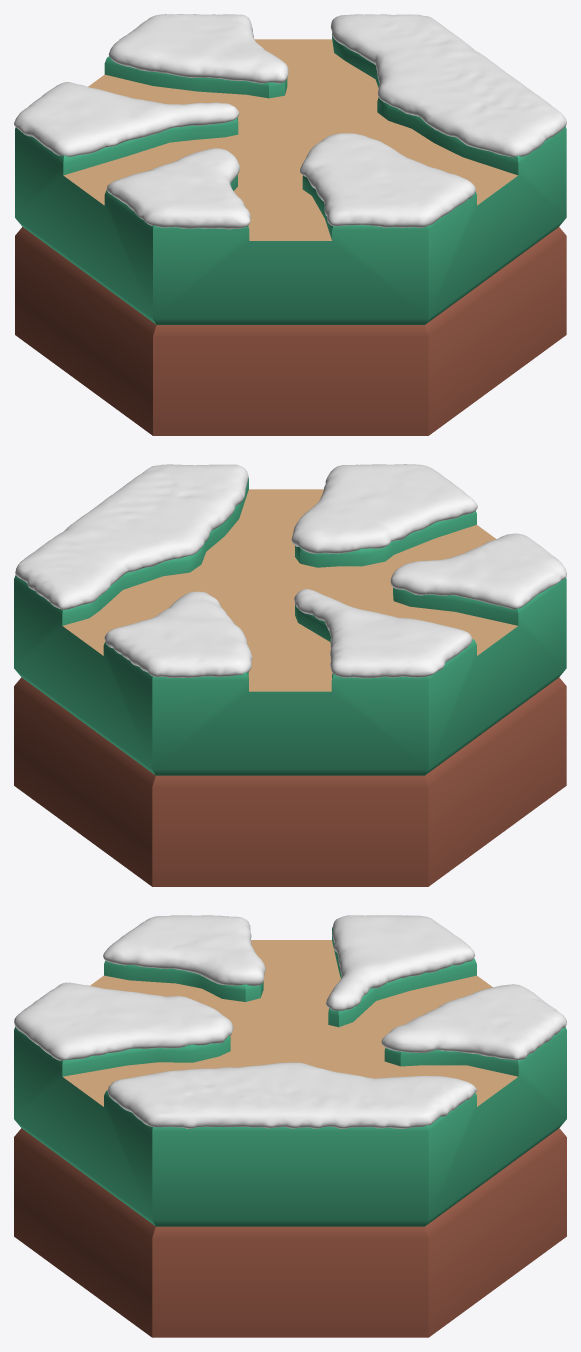
The model's file is snow_hex_forest_roadL_detail.fbx.
The picture shows the model from 3 angles, top to bottom: view 1: azimuth 30°, elevation 25°; view 2: azimuth 150°, elevation 25°; view 3: azimuth 270°, elevation 25°; orthographic projection.
Visible parts, largest first — view 1: hex_forest_roadL_detail.001, hex_forest_roadL_detail.002, SnowBall.001, hex_forest_roadL_detail; view 2: hex_forest_roadL_detail.001, hex_forest_roadL_detail.002, SnowBall.001, hex_forest_roadL_detail; view 3: hex_forest_roadL_detail.001, hex_forest_roadL_detail.002, SnowBall.001, hex_forest_roadL_detail.
Part boxes in pixels (x1=…): hex_forest_roadL_detail.001: x1=15, y1=227, x2=566, y2=435; hex_forest_roadL_detail.002: x1=15, y1=33, x2=566, y2=324; SnowBall.001: x1=14, y1=14, x2=566, y2=229; hex_forest_roadL_detail: x1=63, y1=39, x2=517, y2=240; hex_forest_roadL_detail.001: x1=14, y1=677, x2=566, y2=886; hex_forest_roadL_detail.002: x1=14, y1=477, x2=566, y2=775; SnowBall.001: x1=15, y1=464, x2=566, y2=678; hex_forest_roadL_detail: x1=63, y1=489, x2=517, y2=691; hex_forest_roadL_detail.001: x1=14, y1=1128, x2=566, y2=1337; hex_forest_roadL_detail.002: x1=14, y1=927, x2=566, y2=1226; SnowBall.001: x1=14, y1=915, x2=566, y2=1128; hex_forest_roadL_detail: x1=63, y1=940, x2=517, y2=1106.
Bounding box in the file's own units: 204 × 104 × 231.
